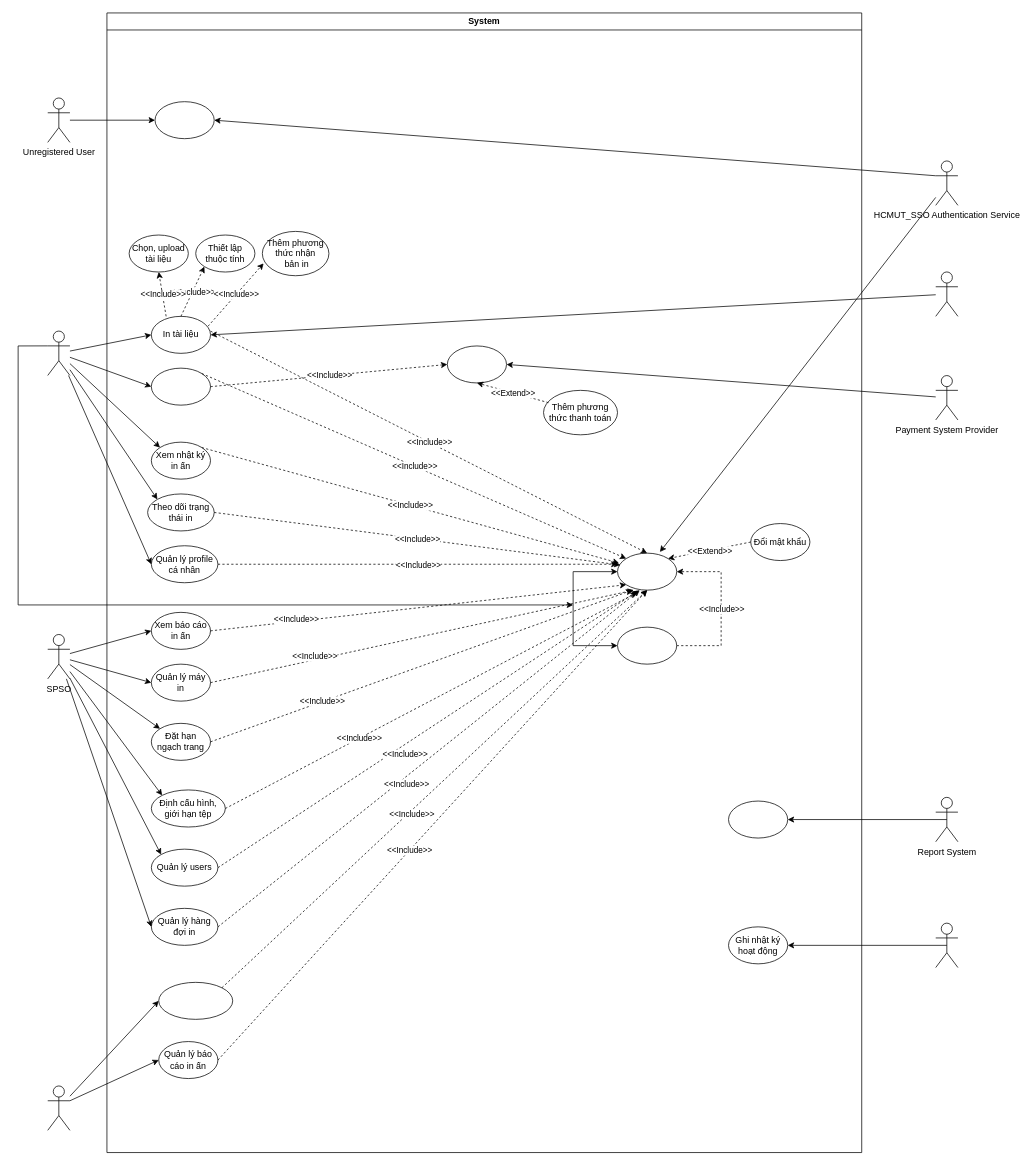
Image size: 1032x1166. Some labels were removed from this diagram. The box of each missing label's shape, as (x1, y1, x2, y2) in pixels:
Admin: (47, 1085, 70, 1130)
Logging System: (935, 922, 958, 968)
Mua thêm trang: (151, 367, 211, 405)
Printer: (935, 271, 958, 316)
Quản lý tất cả người dùng trong hệ thống: (158, 982, 233, 1019)
Thanh toán: (447, 345, 507, 383)
Tạo báo cáo in ấn định kỳ: (728, 800, 788, 838)
User: (47, 330, 70, 375)
Đăng ký: (154, 101, 214, 139)
Đăng nhập: (617, 552, 677, 590)
Đăng xuất: (617, 626, 677, 664)
